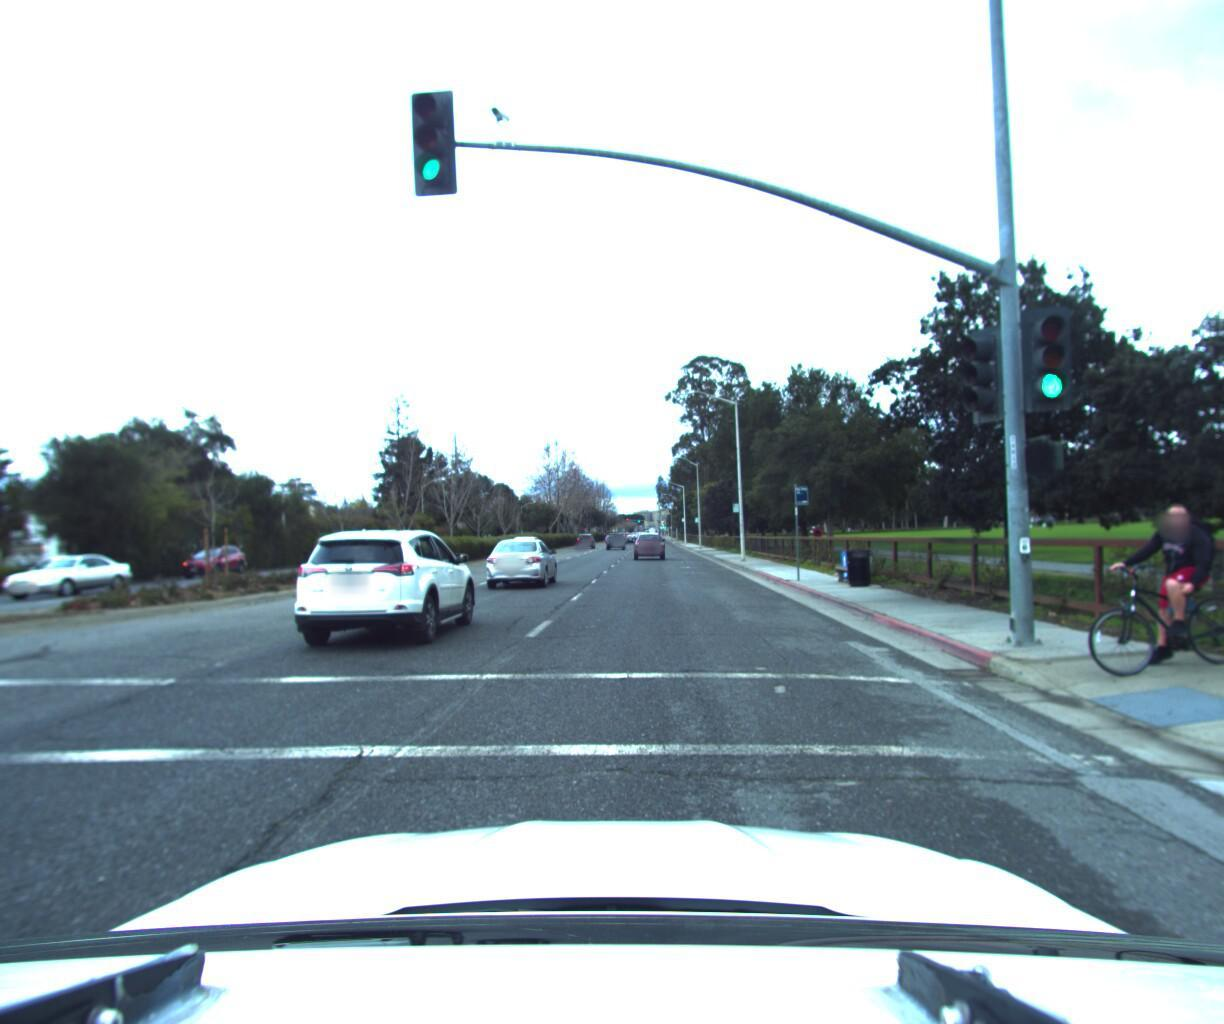bicycle: (1062, 488, 1224, 679)
car: (284, 523, 486, 657), (0, 548, 133, 612), (479, 535, 562, 589), (176, 544, 251, 579), (630, 528, 663, 557), (602, 528, 625, 545)
